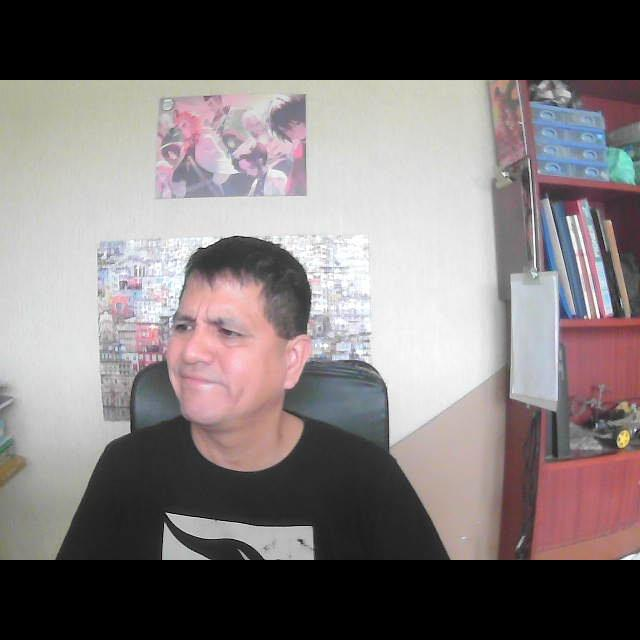cesar: (142, 226, 330, 478)
